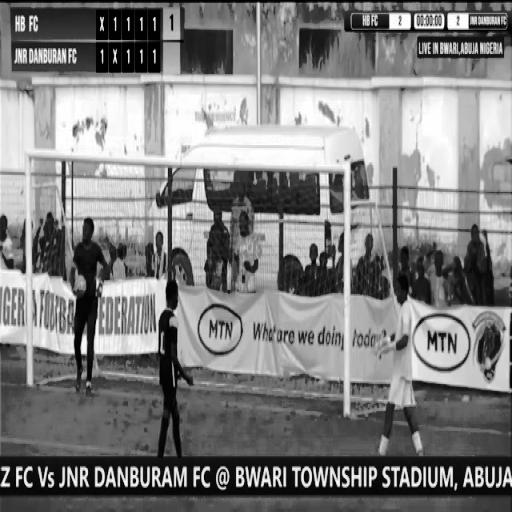ball: (69, 270, 88, 299)
keeper1: (71, 209, 112, 403)
keeper2: (378, 271, 432, 455)
team2: (150, 272, 196, 456)
